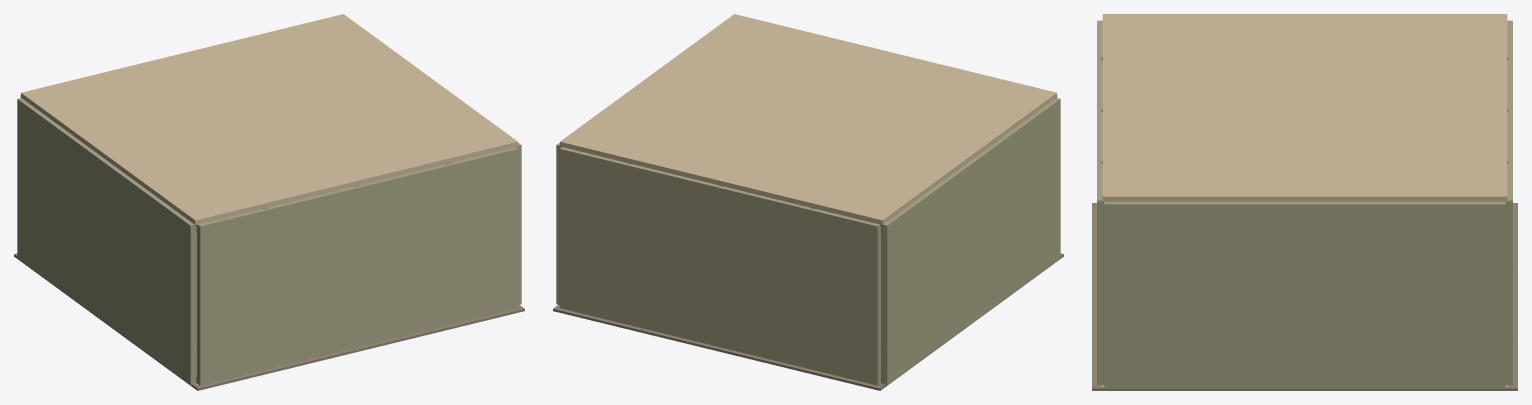
The model's file is hotel.glb.
3 views of the same model, side by side, from view 1: azimuth 30°, elevation 25°; view 2: azimuth 150°, elevation 25°; view 3: azimuth 270°, elevation 25° (orthographic). The views are drawn at different scales.
Visible parts, largest first — view 1: CoiffedCeiling, Wallpaper.007, Wallpaper.008, FloorGrout, Wallpaper.009; view 2: CoiffedCeiling, Wallpaper.006, Wallpaper.008, FloorGrout, Wallpaper.009; view 3: CoiffedCeiling, Wallpaper.009, FloorGrout, Wallpaper.006, Wallpaper.007.
Boxes of the visible parts, bbox=[...] form: CoiffedCeiling: bbox=[21, 14, 517, 224]; Wallpaper.007: bbox=[197, 147, 518, 385]; Wallpaper.008: bbox=[17, 98, 196, 384]; FloorGrout: bbox=[14, 253, 524, 390]; Wallpaper.009: bbox=[516, 142, 521, 304]; CoiffedCeiling: bbox=[560, 14, 1056, 224]; Wallpaper.006: bbox=[559, 147, 880, 385]; Wallpaper.008: bbox=[881, 98, 1060, 384]; FloorGrout: bbox=[553, 253, 1063, 390]; Wallpaper.009: bbox=[556, 142, 561, 304]; CoiffedCeiling: bbox=[1102, 14, 1507, 201]; Wallpaper.009: bbox=[1104, 202, 1505, 388]; FloorGrout: bbox=[1092, 203, 1517, 390]; Wallpaper.006: bbox=[1505, 20, 1512, 385]; Wallpaper.007: bbox=[1097, 20, 1104, 385].
Size of the model in its own units: 7.28 by 3.61 by 7.
